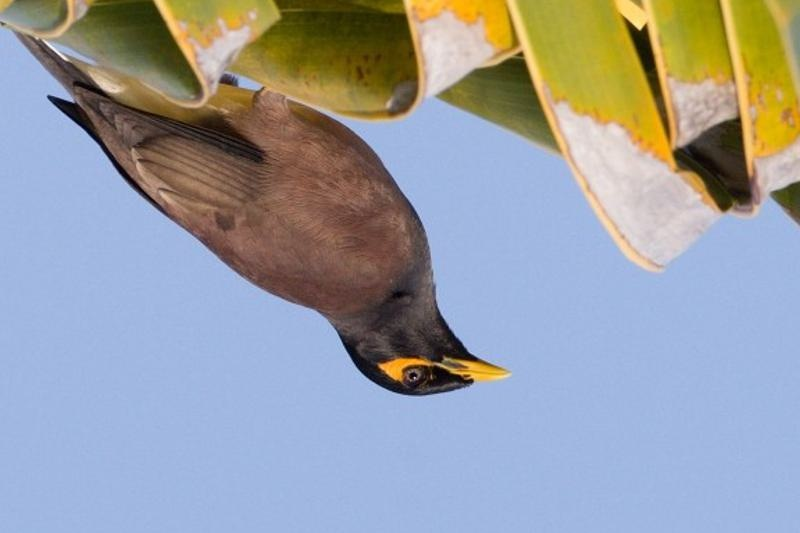myna: (65, 42, 509, 397)
